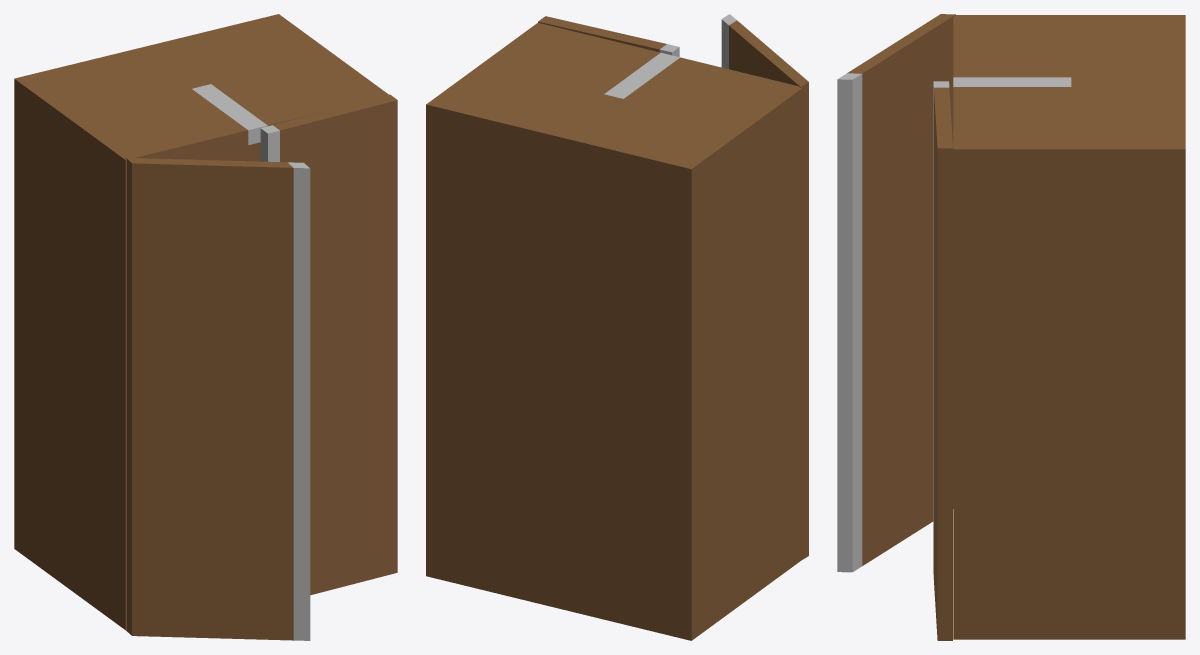
3 renders of one model, left to right at view 1: azimuth 30°, elevation 25°; view 2: azimuth 150°, elevation 25°; view 3: azimuth 270°, elevation 25°, orthographic. The views are drawn at different scales.
Visible parts, largest first — view 1: Cube.001; view 2: Cube.001; view 3: Cube.001.
Part boxes in pixels (left/top/right/bottom): Cube.001: left=14, top=14, right=397, bottom=640; Cube.001: left=426, top=14, right=808, bottom=640; Cube.001: left=837, top=14, right=1185, bottom=640.
Bounding box in the file's own units: 125 × 213 × 136.
